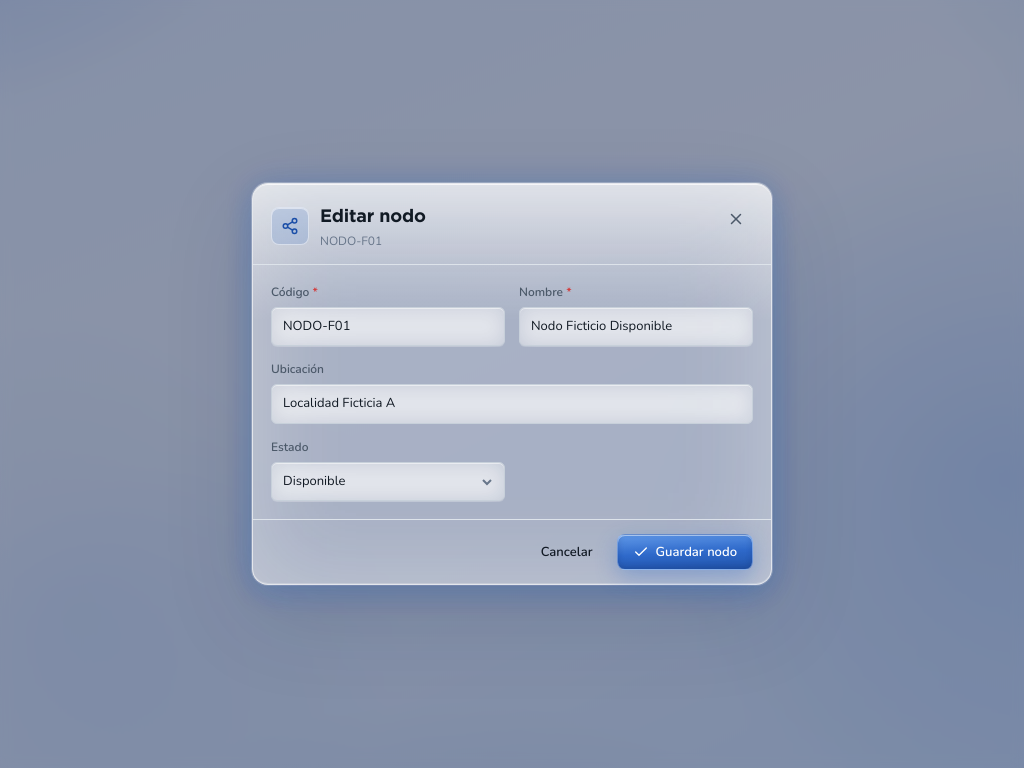
Test: NodeFormModal — reparto de los conflictos 409 › un conflicto de concurrencia tampoco se atribuye al campo Codigo
Step 1. Click the button "Guardar nodo" → point(685, 552), box x1=616 y1=534 x2=753 y2=570
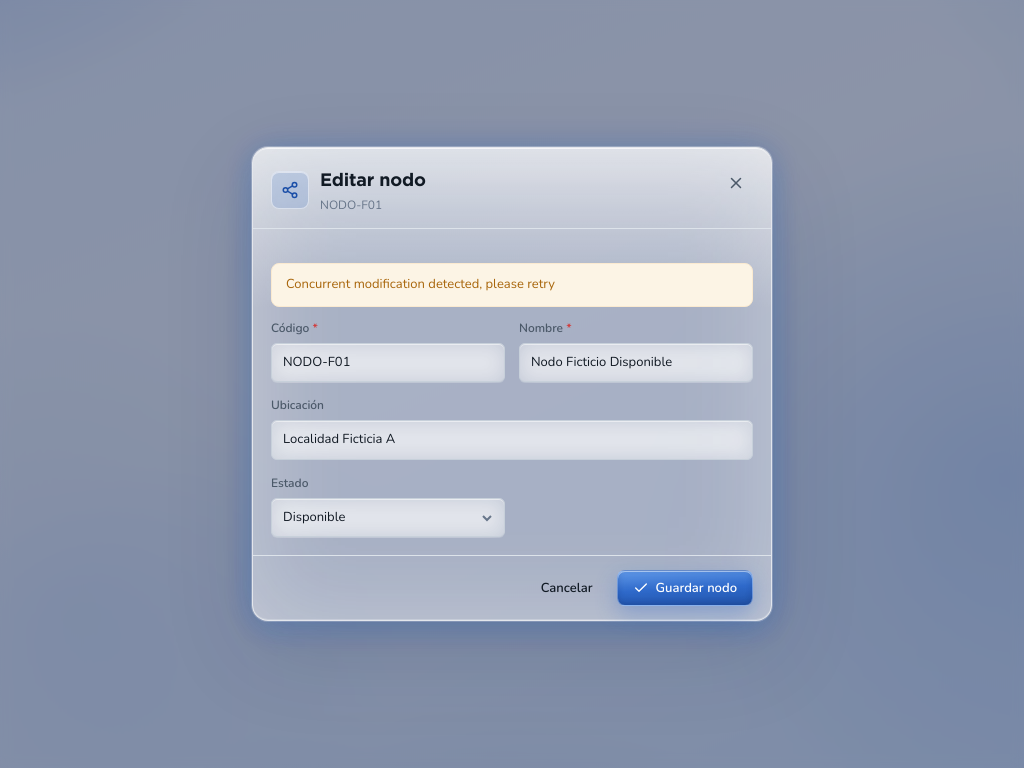
Result: the message reads "Concurrent modification detected, please retry" at x1=286 y1=275 x2=555 y2=293
